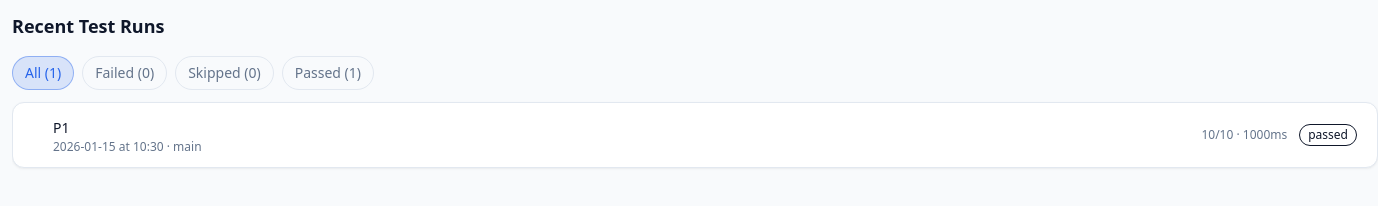
Test case: RecentRuns › shows empty message for filtered status with no matches
The image size is (1378, 206).
Click "Failed" filter (no failed runs)
Click the button "Failed (0)": (125, 73) [82,56,167,90]
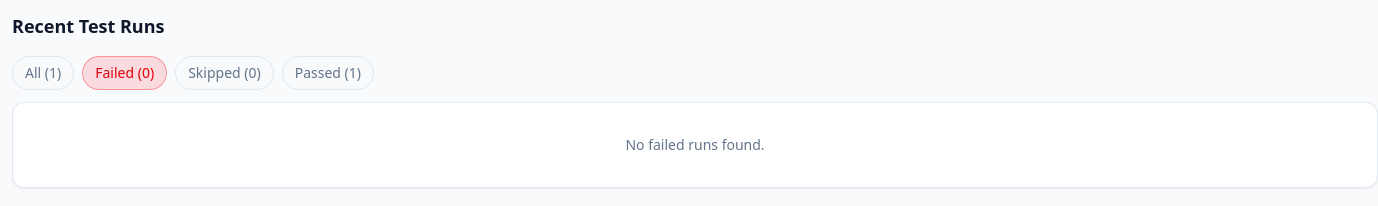
Now the text "No failed runs found." is shown, box [625,135,765,154]
